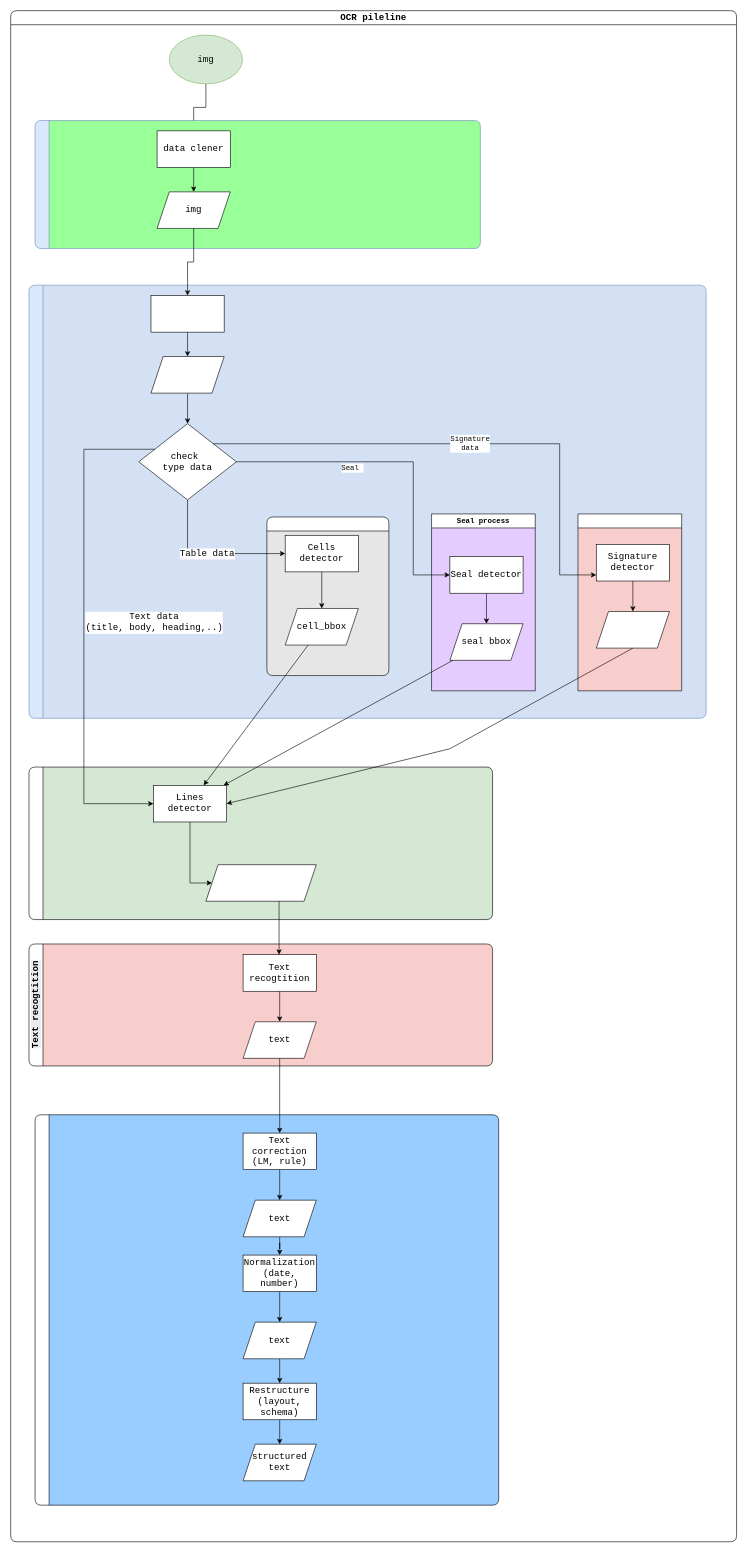
Some shapes in this 747 by 1552 pixel diagram are drawn without their labels. Here are the shapes that lost their labels. From the top down, the box of each, then its label:
(34, 120, 480, 249): Img cleaner
(150, 295, 224, 332): Analysis structure
(150, 356, 224, 393): label_data bbox_data
(28, 285, 706, 718): Structure analysis
(266, 516, 389, 676): Table process
(577, 513, 682, 691): Signature Prosess
(596, 611, 669, 648): signature bbox
(28, 766, 493, 920): Line detector
(205, 864, 316, 901): polygons_text
(34, 1114, 499, 1505): Post-processing
